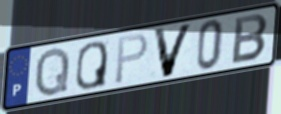0: (197, 18, 228, 73)
B: (230, 12, 271, 66)
P: (113, 32, 150, 87)
Q: (33, 45, 72, 98), (74, 40, 109, 92)
V: (151, 21, 196, 80)
